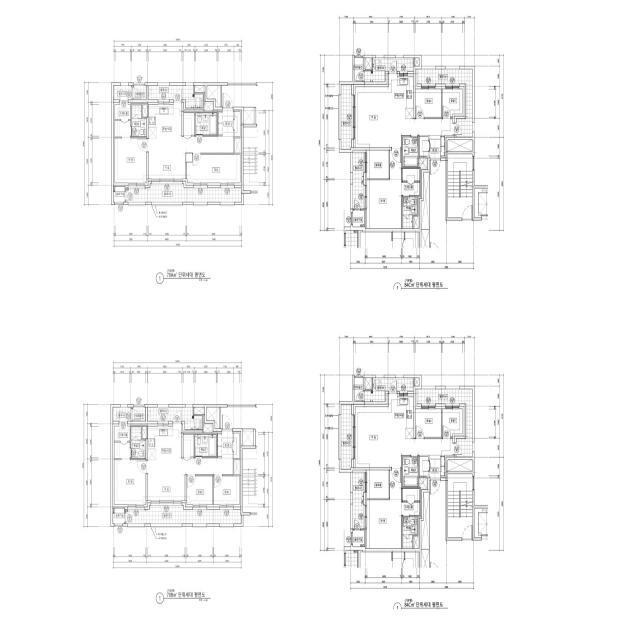space_balconi: (417, 389, 472, 457), (417, 69, 472, 137), (125, 506, 241, 524), (126, 184, 242, 202), (148, 407, 202, 430), (148, 86, 203, 108), (365, 378, 414, 402), (365, 58, 414, 82), (341, 85, 351, 150), (341, 405, 351, 470), (353, 472, 363, 529), (353, 153, 363, 209), (113, 407, 131, 421), (113, 86, 131, 100)
space_bedroom: (367, 150, 401, 229), (367, 470, 401, 548), (187, 155, 240, 183), (114, 460, 146, 504), (115, 138, 146, 183), (187, 476, 213, 504), (415, 409, 441, 437), (415, 89, 441, 117), (214, 476, 239, 504), (442, 409, 462, 437), (442, 89, 462, 117)
space_dressroom: (114, 424, 130, 459), (115, 102, 130, 137), (402, 169, 419, 195), (402, 489, 419, 515)
space_front: (218, 109, 240, 137), (217, 431, 233, 458), (429, 135, 445, 156), (429, 455, 445, 476)
space_kitchen: (148, 102, 182, 137), (148, 424, 181, 458), (389, 74, 413, 119), (389, 394, 413, 439)
space_living_room: (355, 87, 453, 147), (355, 407, 453, 467), (148, 458, 233, 500), (148, 137, 233, 179)
space_multipurpose_space: (367, 150, 389, 179), (367, 470, 389, 498)
space_other: (421, 172, 429, 229), (421, 492, 429, 549), (206, 407, 220, 429), (207, 86, 220, 107), (448, 460, 472, 471), (448, 140, 472, 151), (183, 434, 194, 457), (184, 113, 194, 135), (354, 378, 363, 402), (354, 58, 363, 82), (132, 407, 146, 421), (133, 86, 146, 100), (243, 108, 254, 124), (419, 457, 428, 476), (419, 137, 428, 156), (243, 429, 253, 446), (234, 433, 240, 458), (234, 460, 240, 475), (419, 158, 427, 168), (419, 478, 427, 488), (365, 378, 372, 389), (365, 58, 372, 69), (235, 138, 240, 153), (204, 103, 213, 111), (195, 86, 205, 93), (194, 407, 204, 414), (204, 425, 212, 433), (142, 427, 147, 439), (414, 536, 418, 548), (414, 217, 418, 229), (143, 105, 147, 117), (415, 378, 419, 386), (415, 58, 419, 66)
space_outdoor_room: (353, 210, 364, 227), (353, 530, 364, 547), (113, 187, 125, 202), (113, 508, 124, 524)
space_staircase: (448, 474, 472, 538), (448, 154, 472, 218)
space_toilet: (195, 113, 217, 135), (195, 434, 216, 457), (402, 457, 418, 487), (402, 197, 417, 229), (402, 137, 418, 167), (131, 427, 146, 458), (402, 517, 417, 548), (132, 105, 146, 137)
